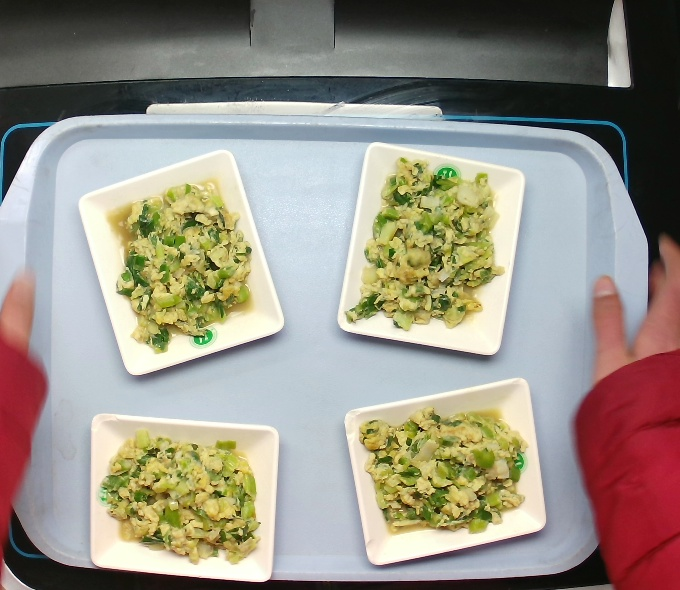wcq-SuanMiaoChaoDan: (92, 170, 263, 355), (341, 154, 508, 333), (94, 424, 276, 570), (349, 400, 532, 539)
